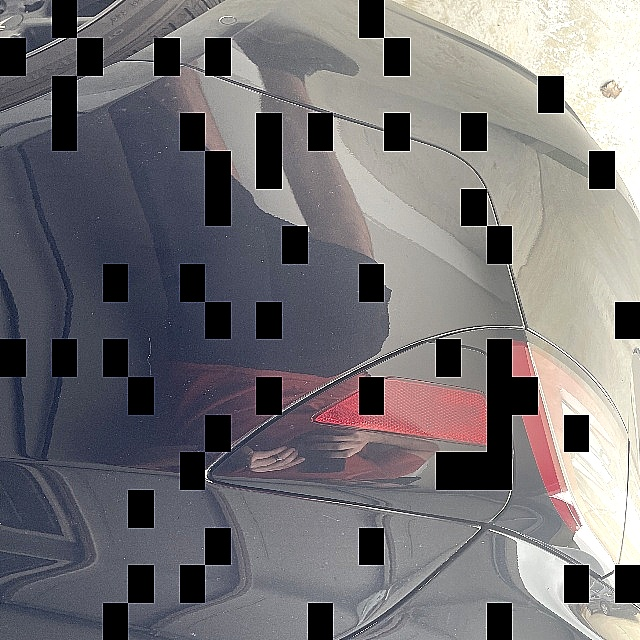reflector: (312, 377, 498, 448)
